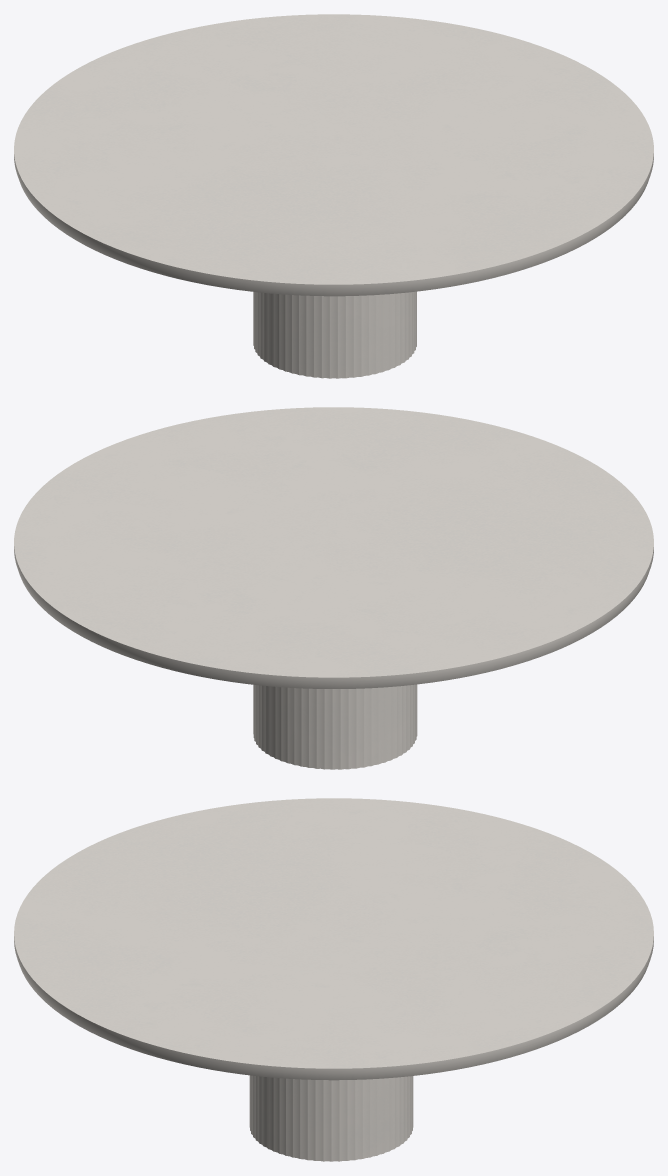
Rendered from pearlwhite_round_facet_ripple.glb.
The picture shows the model from 3 angles, top to bottom: view 1: azimuth 30°, elevation 25°; view 2: azimuth 150°, elevation 25°; view 3: azimuth 270°, elevation 25°; orthographic projection.
Parts seen in each view (by area): view 1: tabletop_round_facet.002, tableleg_ripple.016; view 2: tabletop_round_facet.002, tableleg_ripple.016; view 3: tabletop_round_facet.002, tableleg_ripple.016.
Part boxes in pixels (box(x1,y1,x2,y2)): tabletop_round_facet.002: box(14, 14, 653, 296); tableleg_ripple.016: box(253, 291, 416, 378); tabletop_round_facet.002: box(14, 407, 653, 688); tableleg_ripple.016: box(253, 684, 417, 769); tabletop_round_facet.002: box(14, 798, 653, 1080); tableleg_ripple.016: box(249, 1075, 413, 1161).
Size of the model in its own units: 7.5 by 2.5 by 7.5.
1 material, 1 textured.
